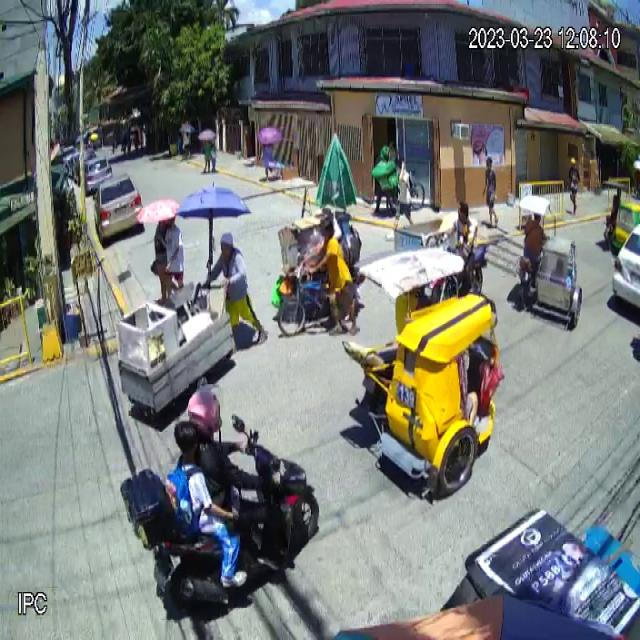Car: (93, 175, 144, 241)
Motorcycle: (120, 414, 318, 610)
Tricycle: (342, 246, 503, 492), (516, 194, 582, 330)
